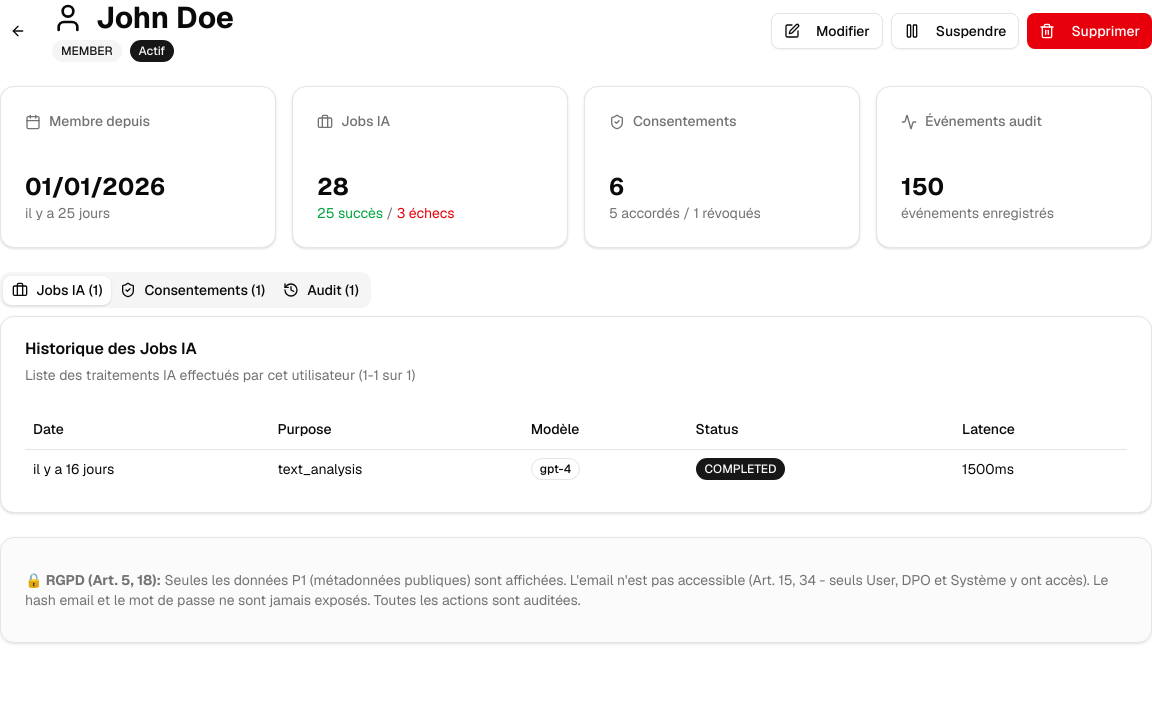
Test: UserDetailPage › Dialogs › [DETAIL-040] opens suspend dialog on suspend click
What coordinates should you click on to do the following:
click the button "Suspendre"
I would click on:
 (955, 31)
Its box is [891, 13, 1019, 49].
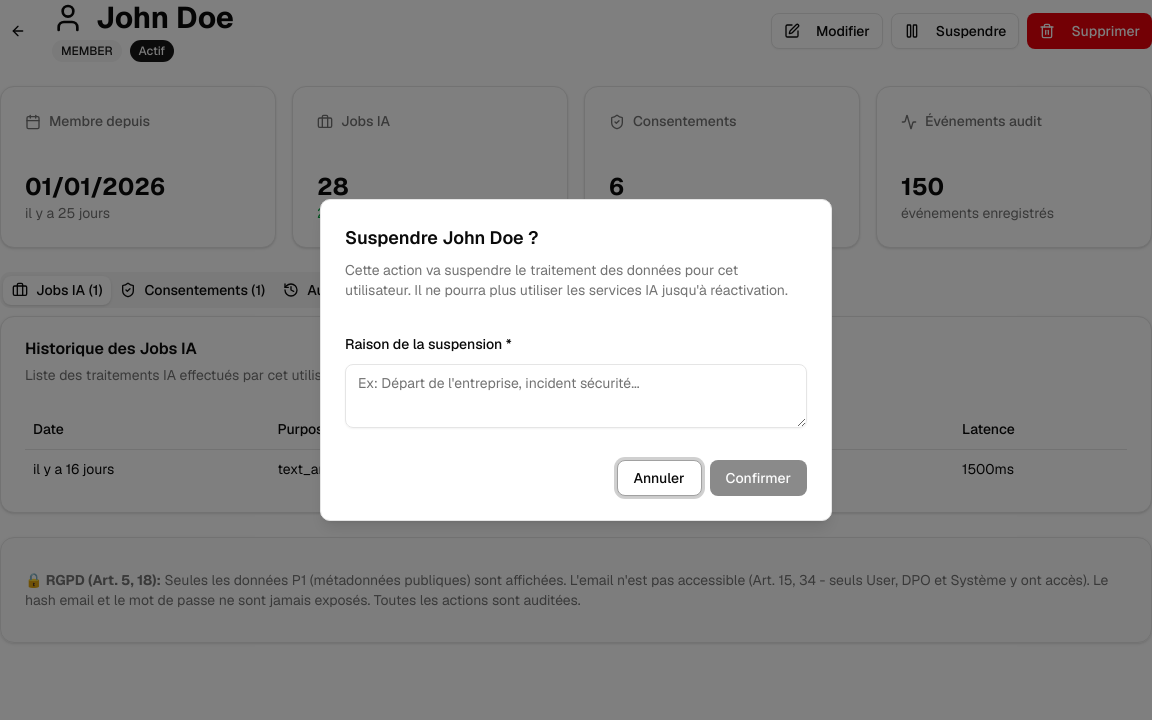
Check: the heading "Suspendre John Doe ?" is shown, box [345, 226, 538, 249]
Check: the text "Raison de la suspension *" is shown, box [345, 335, 512, 353]
